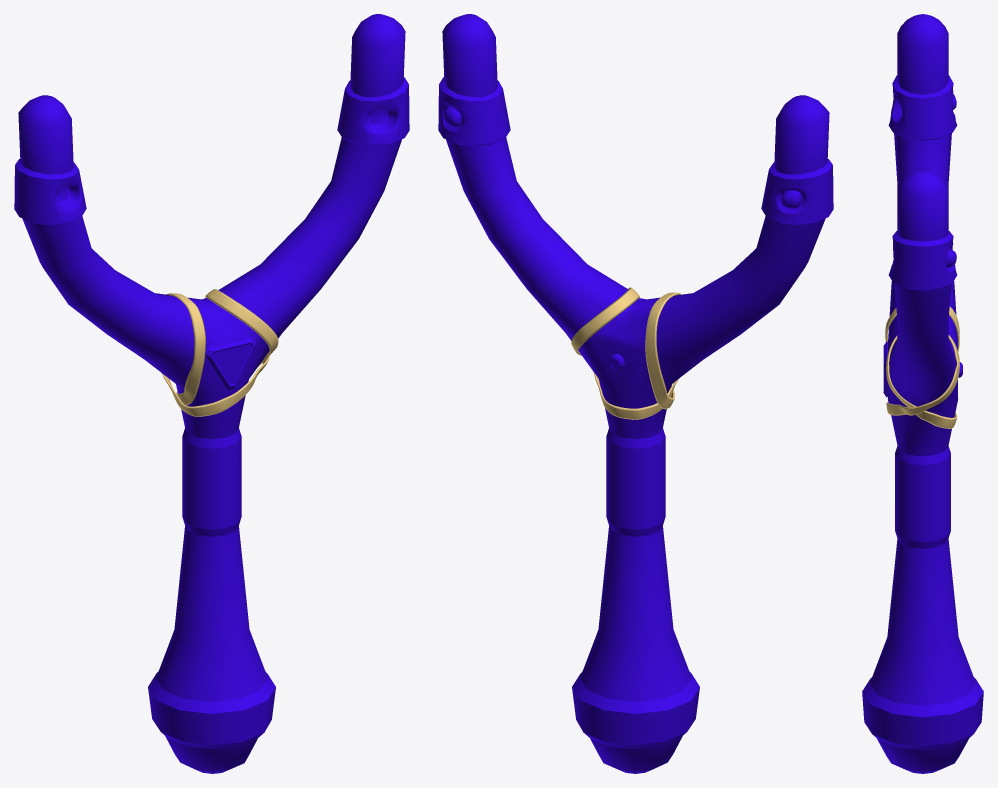
The model's file is slingshot.fbx.
3 views of the same model, side by side, from view 1: azimuth 30°, elevation 25°; view 2: azimuth 150°, elevation 25°; view 3: azimuth 270°, elevation 25° (orthographic). The views are drawn at different scales.
Parts seen in each view (by area): view 1: slingshotbase; view 2: slingshotbase; view 3: slingshotbase.
Part boxes in pixels (x1,y1,x2,y2): slingshotbase: (14,14,409,773); slingshotbase: (438,14,833,773); slingshotbase: (862,14,983,773).
Bounding box in the file's own units: 166 × 291 × 47.67.
